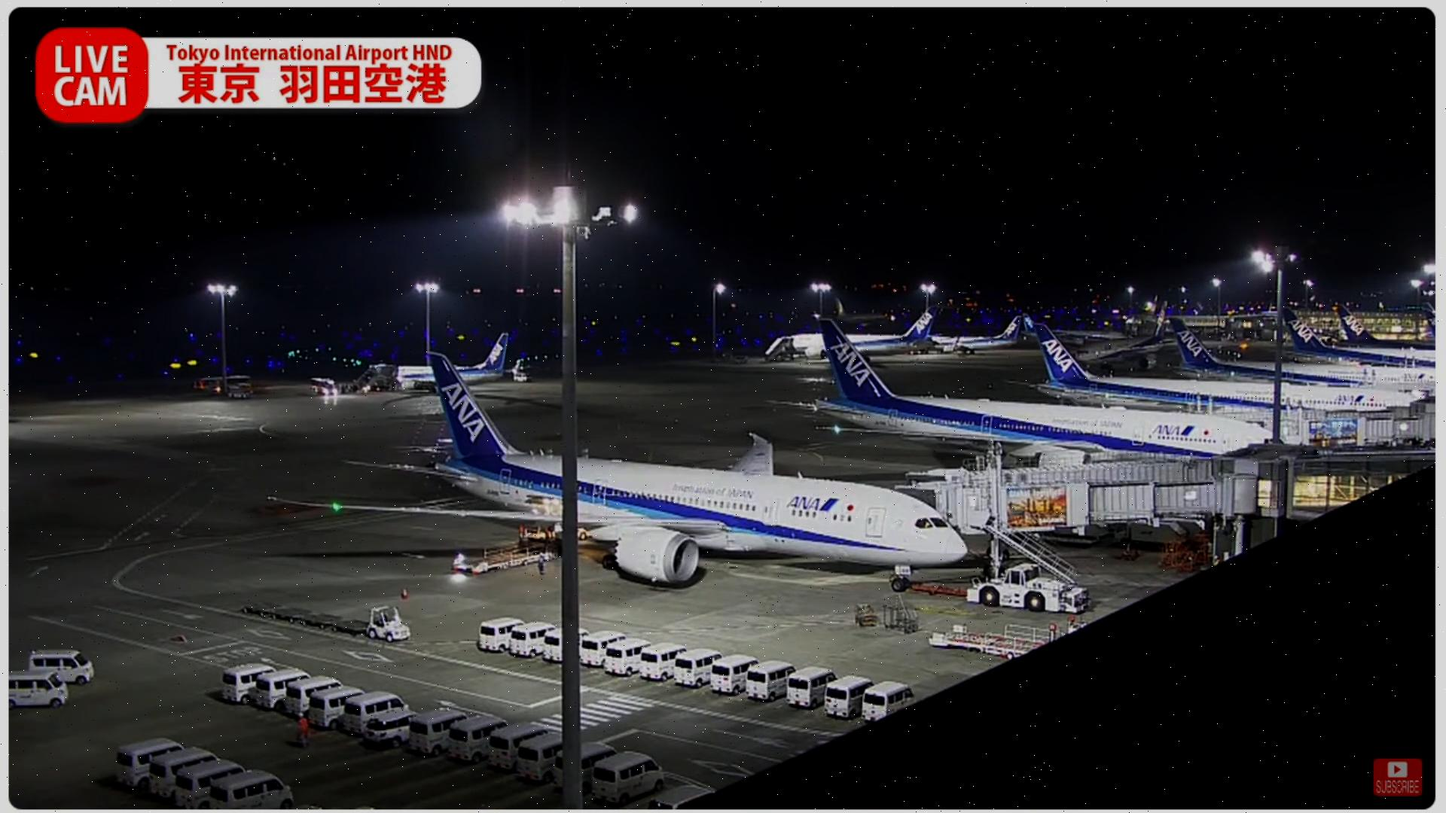APS: (968, 561, 1090, 612), (452, 527, 562, 573)
Aerobridge: (895, 475, 1256, 534), (895, 456, 1224, 487)
Airplane: (270, 351, 971, 589)
Dolly: (241, 599, 370, 637)
JCPL: (930, 624, 1061, 658)
Tractor: (365, 605, 412, 641)
Window: (1290, 455, 1437, 521)
